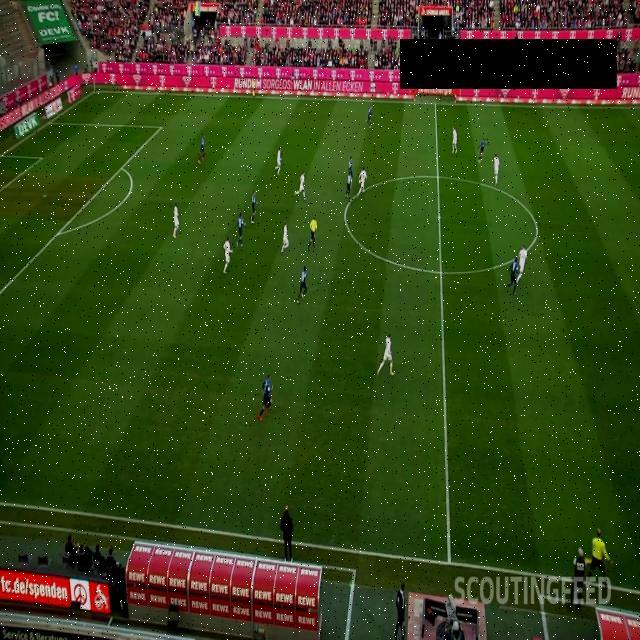Ball: (358, 180, 362, 184)
Corner: (91, 67, 99, 95)
Referee: (584, 528, 612, 592), (307, 214, 318, 252), (250, 78, 256, 99)
TEAM 1: (376, 332, 396, 376), (514, 242, 528, 288), (223, 235, 233, 274), (294, 170, 306, 200), (280, 221, 290, 255), (357, 166, 367, 196), (172, 202, 180, 238), (492, 153, 500, 187), (275, 146, 283, 176), (452, 126, 458, 154)
TEAM 2: (258, 373, 274, 421), (505, 256, 519, 294), (296, 264, 308, 304), (478, 138, 490, 164), (237, 212, 246, 246), (251, 188, 258, 224), (364, 106, 374, 130), (198, 133, 206, 163), (344, 171, 352, 198), (348, 154, 354, 182)
